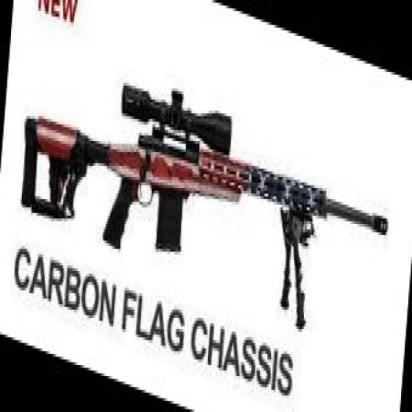Gun: (19, 76, 390, 259)
